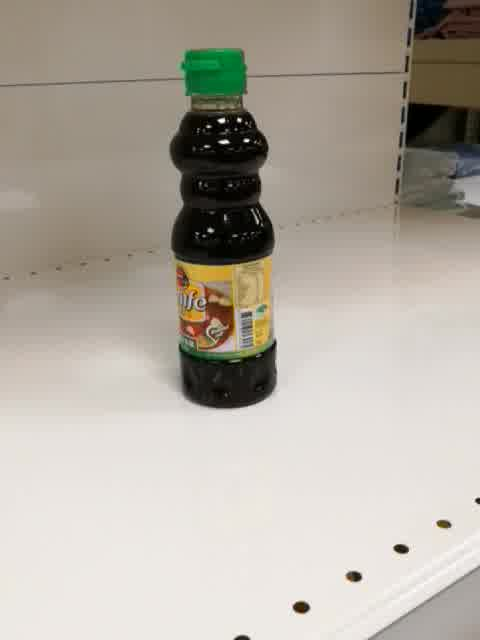cookingoil: (166, 46, 279, 411)
